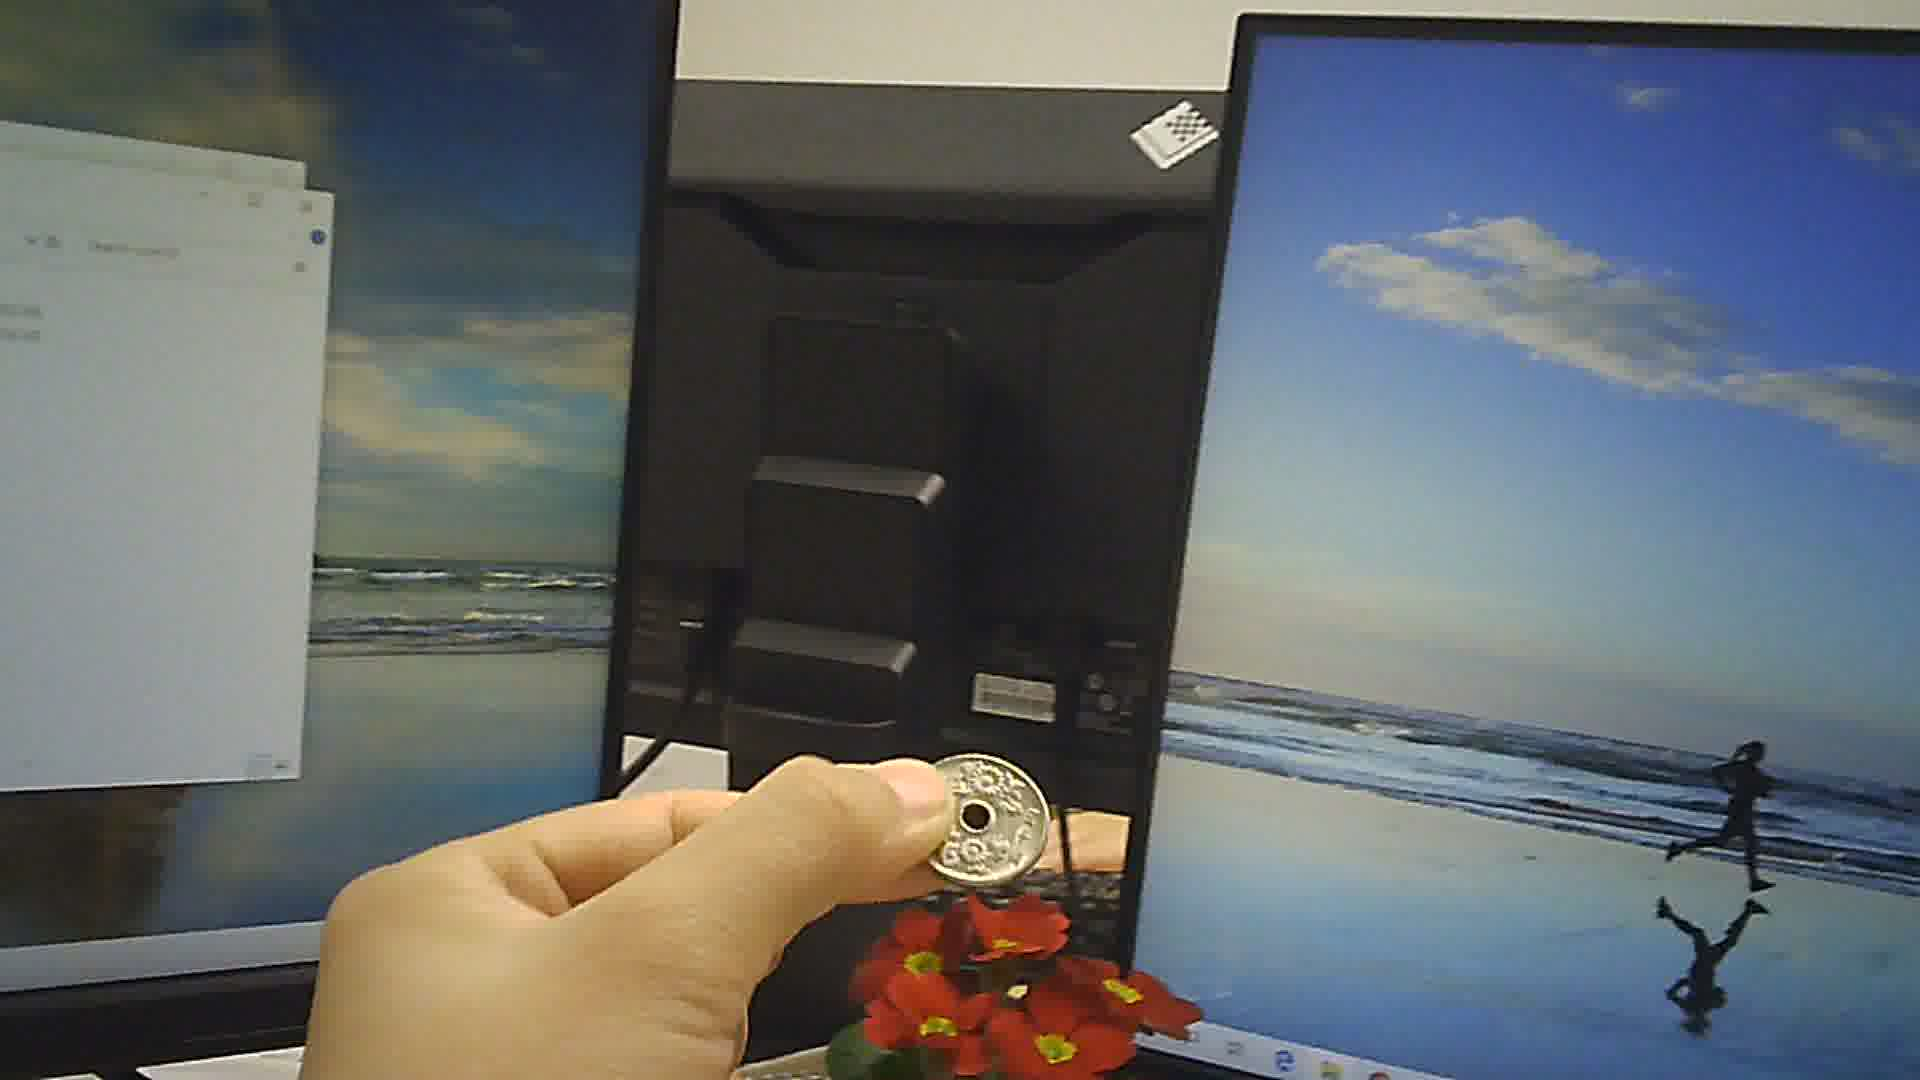50 Yen: (909, 741, 1051, 891)
